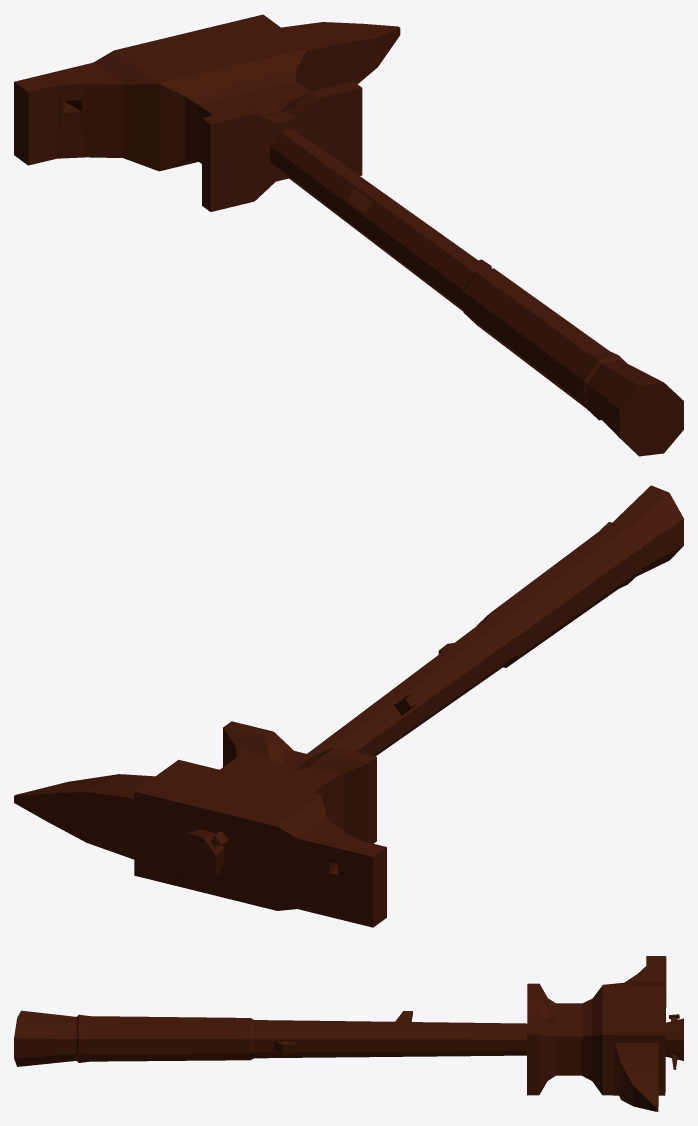
The model's file is Anvil_Hammer.glb.
3 renders of one model, top to bottom at view 1: azimuth 30°, elevation 25°; view 2: azimuth 150°, elevation 25°; view 3: azimuth 270°, elevation 25°, orthographic. The views are drawn at different scales.
Parts seen in each view (by area): view 1: Anvil_Hammer; view 2: Anvil_Hammer; view 3: Anvil_Hammer.
Boxes of the visible parts, bbox=[...] form: Anvil_Hammer: bbox=[14, 14, 683, 456]; Anvil_Hammer: bbox=[14, 485, 683, 927]; Anvil_Hammer: bbox=[14, 956, 683, 1111].
Bounding box in the file's own units: 96.3 × 21.3 × 213.
